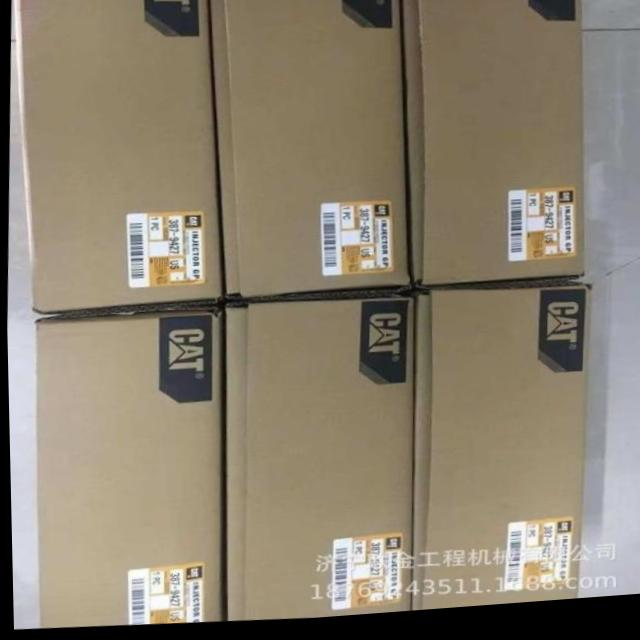box: (14, 0, 223, 313), (221, 298, 414, 623), (210, 0, 414, 304), (32, 308, 222, 628), (407, 288, 586, 617), (401, 0, 583, 296)
